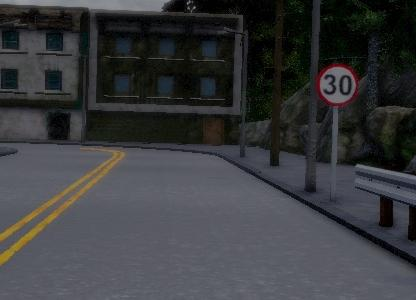Speed_30: (313, 60, 358, 106)
